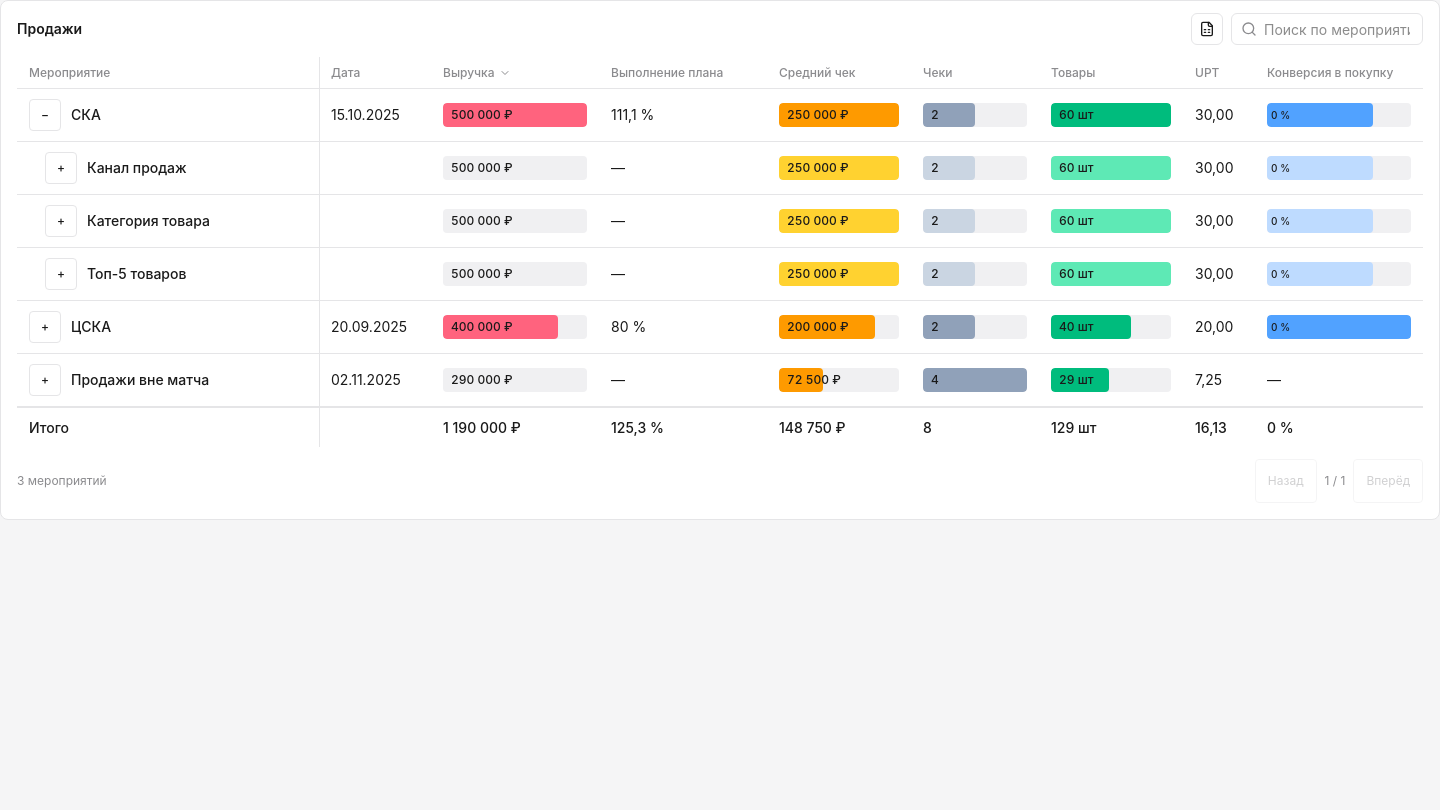
MerchMatchSalesTable drill-down › expanding one section does not open the other
The image size is (1440, 810).
What coordinates should you click on to do the following:
click the button "+" next to "Канал продаж"
I would click on:
 (61, 168)
Its box is [45,152,77,184].
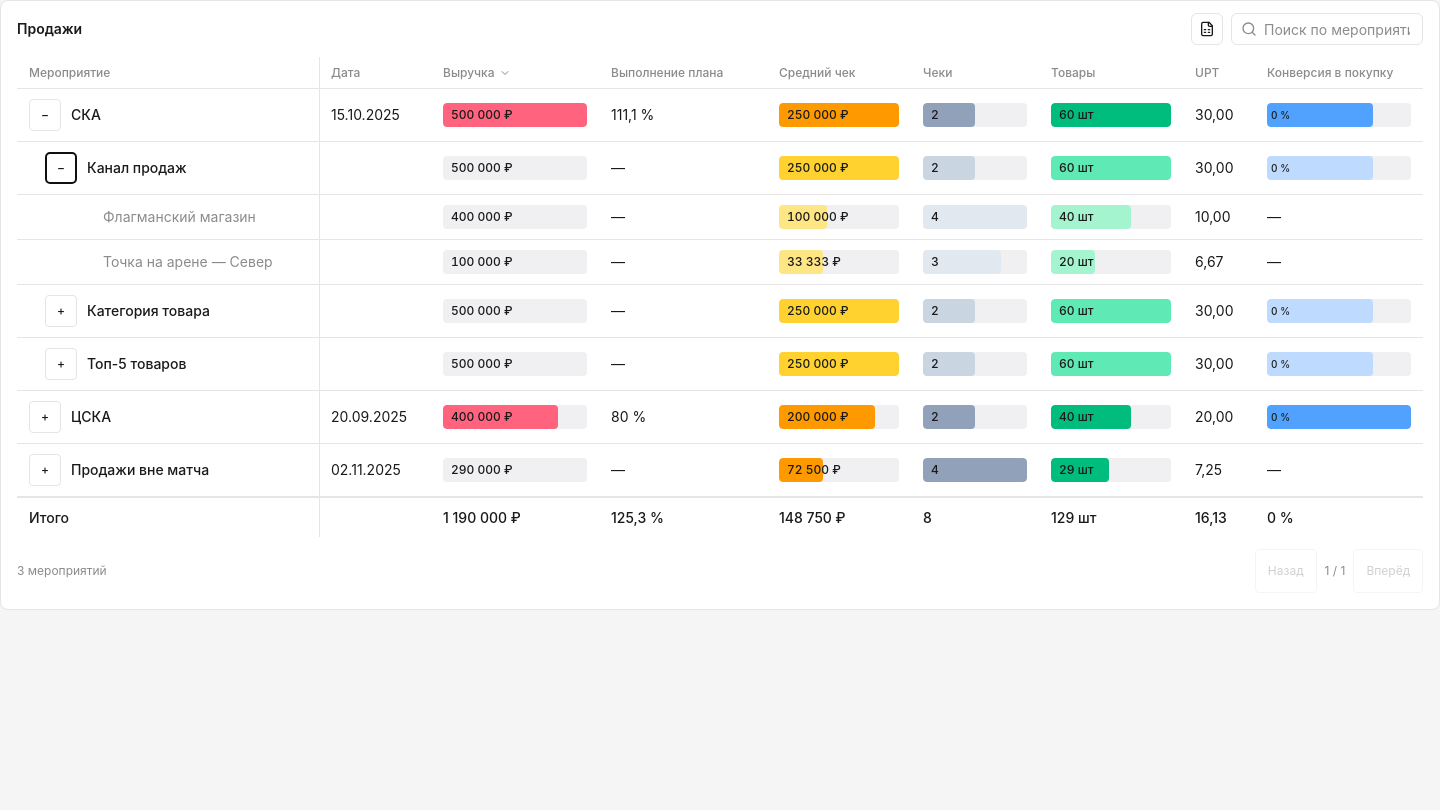
Result: the text "Флагманский магазин" is shown at [103,207,256,227]
Result: the text "Точка на арене — Север" is shown at [103,252,273,272]
